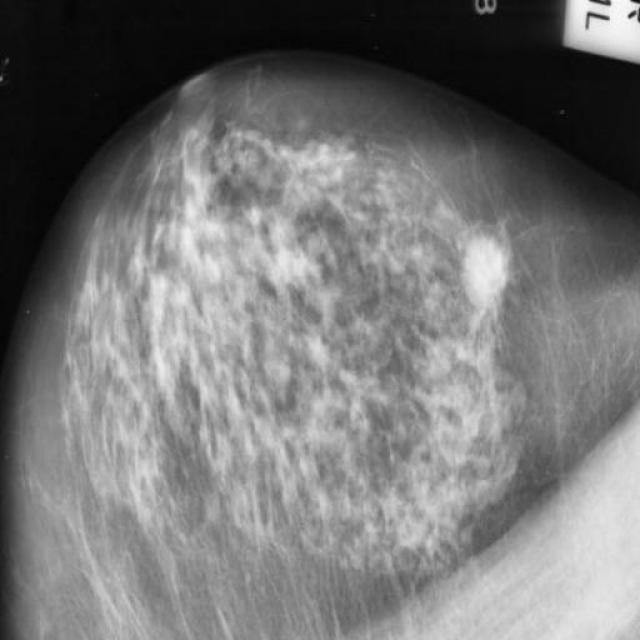cancer: (460, 230, 518, 316)
